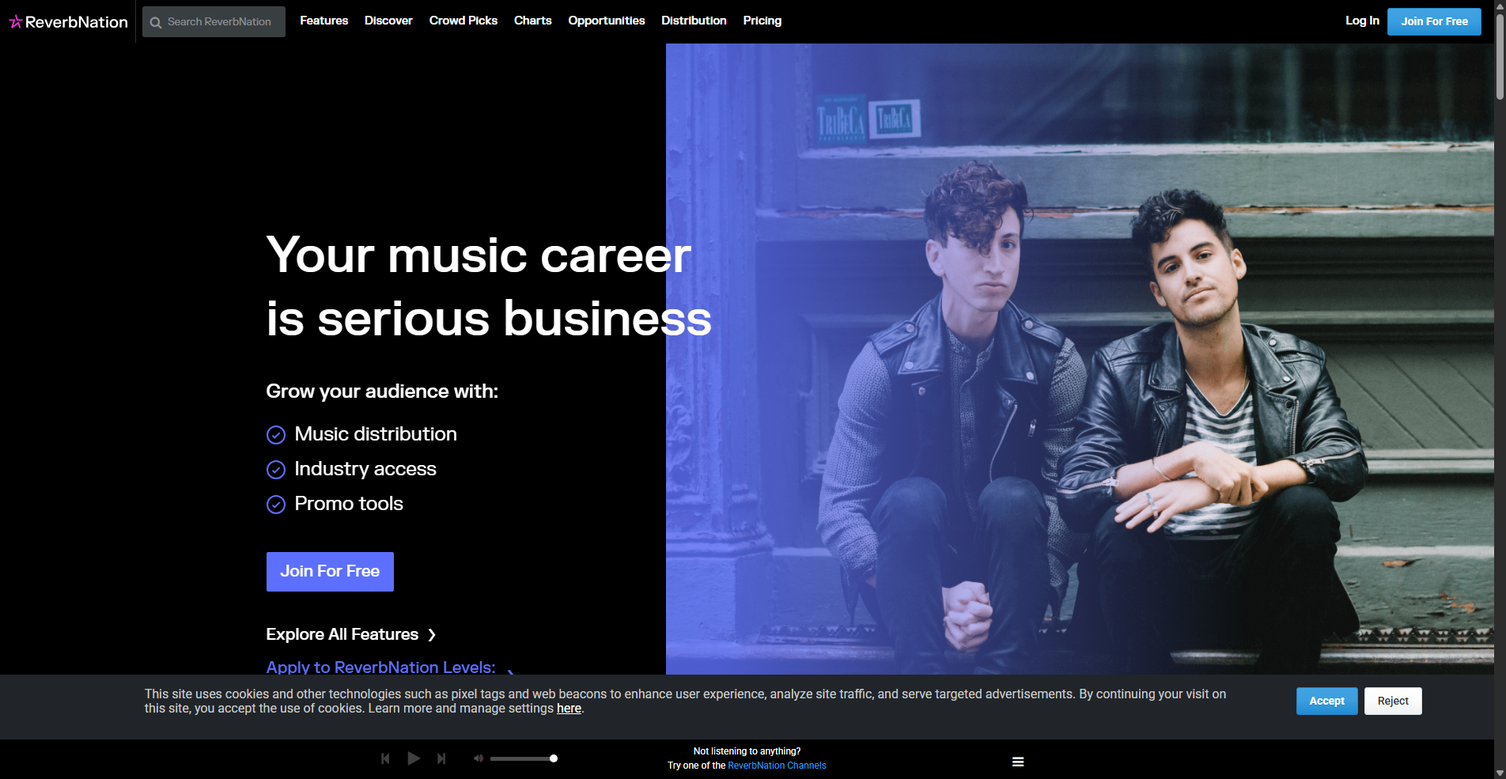button: (266, 519, 1228, 592), (266, 552, 394, 592), (371, 746, 577, 770), (1388, 8, 1481, 36), (1296, 687, 1358, 715), (1364, 687, 1422, 715), (401, 746, 425, 770), (375, 746, 395, 770), (431, 746, 451, 770), (474, 751, 486, 764)
input: (142, 6, 286, 37)
link: (266, 658, 1228, 699), (266, 625, 1228, 645), (0, 0, 135, 43), (560, 0, 653, 43), (421, 0, 506, 43), (653, 0, 735, 43), (356, 0, 421, 43), (292, 0, 356, 43), (735, 0, 790, 43), (506, 0, 560, 43), (1337, 0, 1388, 43), (728, 760, 827, 771), (522, 750, 574, 761), (557, 701, 581, 716), (957, 743, 969, 768), (1007, 754, 1029, 764)
menu_item: (0, 0, 136, 43), (136, 0, 292, 37), (560, 0, 653, 43), (421, 0, 506, 43), (653, 0, 735, 43), (356, 0, 421, 43), (292, 0, 356, 43), (735, 0, 790, 43), (506, 0, 560, 43)
